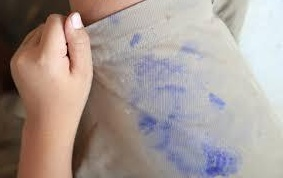ink: (133, 56, 197, 169), (202, 147, 241, 175), (208, 91, 226, 109), (180, 43, 200, 53), (130, 35, 138, 46)
